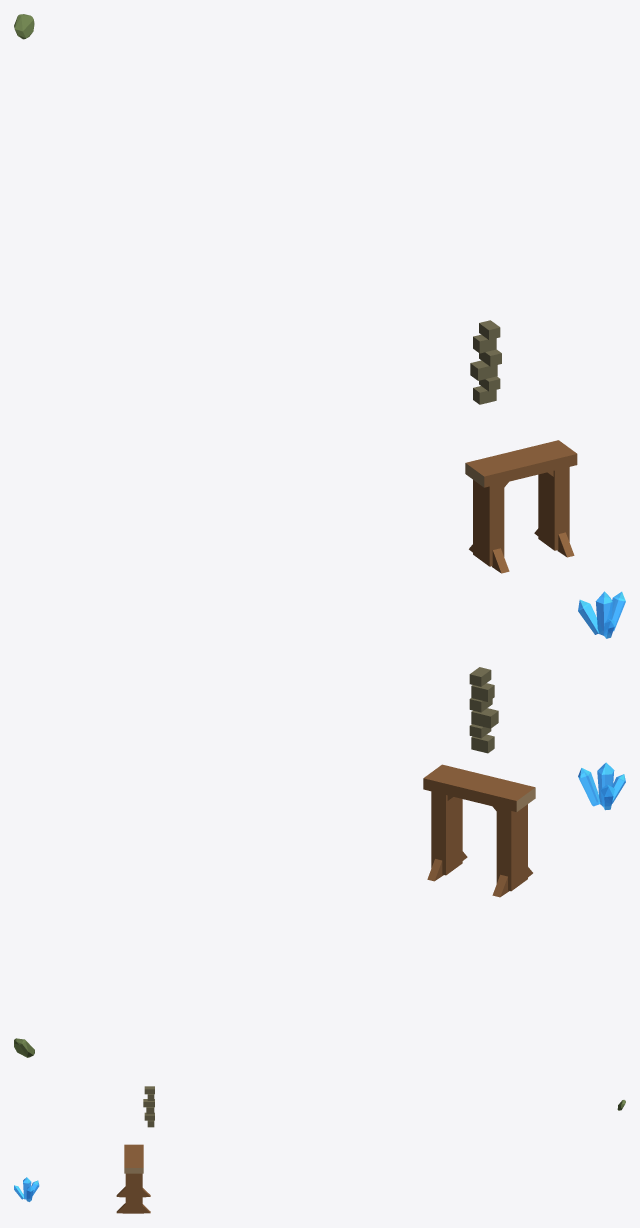
3 views of the same model, one above another, from view 1: azimuth 30°, elevation 25°; view 2: azimuth 150°, elevation 25°; view 3: azimuth 270°, elevation 25° (orthographic). The views are drawn at different scales.
Parts seen in each view (by area): view 1: Box491_brown_0, Box15406_rock2_0, Cylinder1681_effect_cristal_0; view 2: Box491_brown_0, Box15406_rock2_0, Cylinder1681_effect_cristal_0; view 3: Box491_brown_0, Box15406_rock2_0, Cylinder1681_effect_cristal_0.
Boxes of the visible parts, x1,y1,x2,y2 form: Box491_brown_0: [466, 440, 577, 573]; Box15406_rock2_0: [470, 320, 501, 404]; Cylinder1681_effect_cristal_0: [578, 591, 625, 638]; Box491_brown_0: [423, 764, 534, 897]; Box15406_rock2_0: [469, 667, 498, 753]; Cylinder1681_effect_cristal_0: [578, 762, 625, 810]; Box491_brown_0: [116, 1144, 150, 1213]; Box15406_rock2_0: [143, 1086, 154, 1127]; Cylinder1681_effect_cristal_0: [14, 1177, 39, 1201].
Size of the model in its own units: 318 by 719 by 3527.
